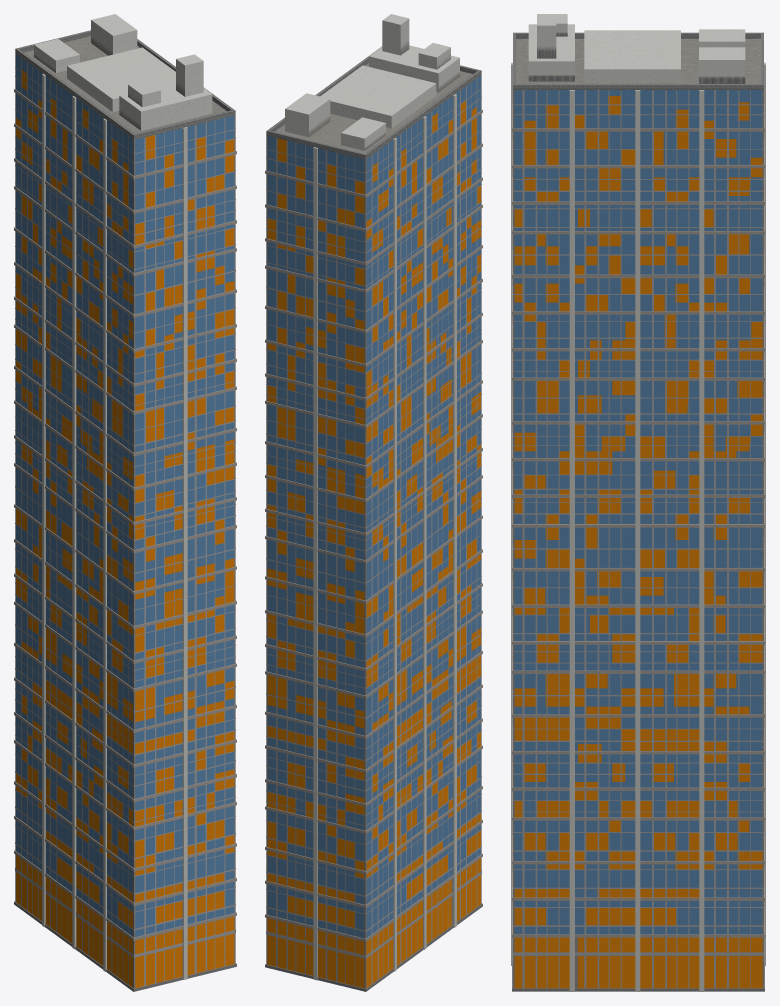
Rendered from House_2.fbx.
3 views of the same model, side by side, from view 1: azimuth 30°, elevation 25°; view 2: azimuth 150°, elevation 25°; view 3: azimuth 270°, elevation 25° (orthographic). The views are drawn at different scales.
Visible parts, largest first — view 1: House_2, Glass, GlassLighted; view 2: House_2, Glass, GlassLighted; view 3: House_2, Glass, GlassLighted.
Boxes of the visible parts, x1=… form: House_2: x1=14, y1=14, x2=236, y2=991; Glass: x1=16, y1=54, x2=234, y2=936; GlassLighted: x1=16, y1=70, x2=234, y2=988; House_2: x1=265, y1=14, x2=482, y2=991; Glass: x1=267, y1=75, x2=480, y2=938; GlassLighted: x1=267, y1=101, x2=480, y2=988; House_2: x1=511, y1=14, x2=765, y2=991; Glass: x1=514, y1=90, x2=762, y2=934; GlassLighted: x1=514, y1=96, x2=762, y2=988.
Bounding box in the file's own units: 51.46 × 424 × 102.
